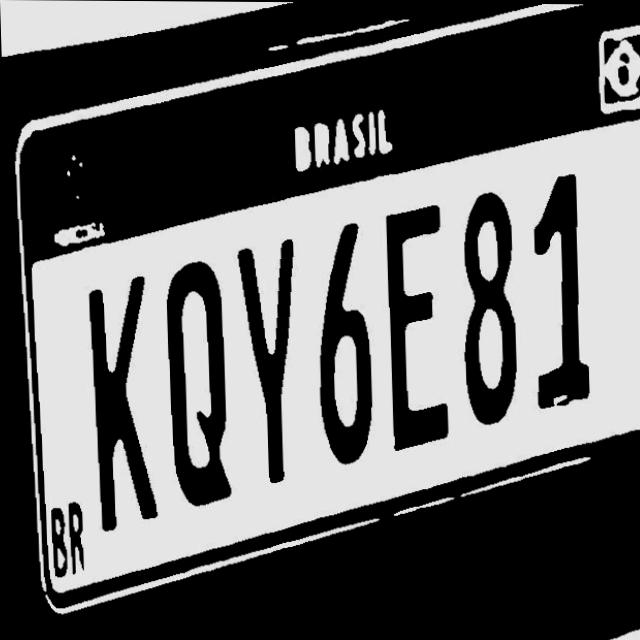1: (526, 173, 597, 411)
6: (311, 209, 377, 469)
8: (453, 185, 528, 433)
e: (378, 195, 456, 451)
k: (86, 254, 160, 534)
q: (156, 256, 240, 507)
y: (235, 233, 304, 514)
